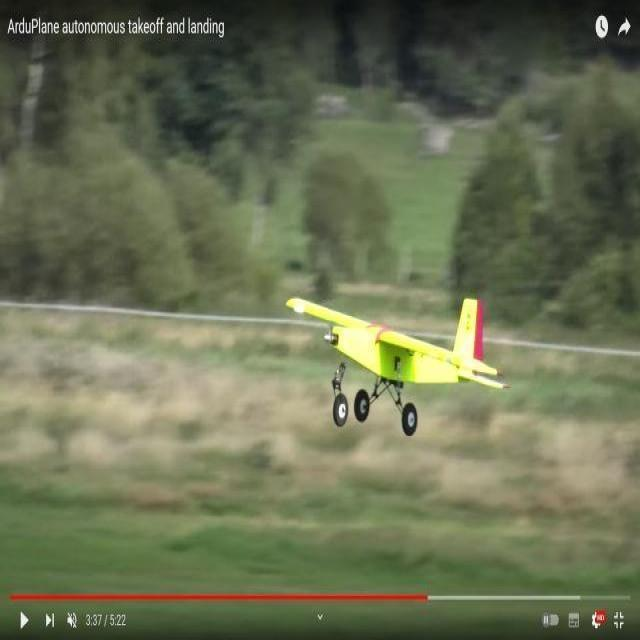Airplane: (279, 288, 510, 448)
